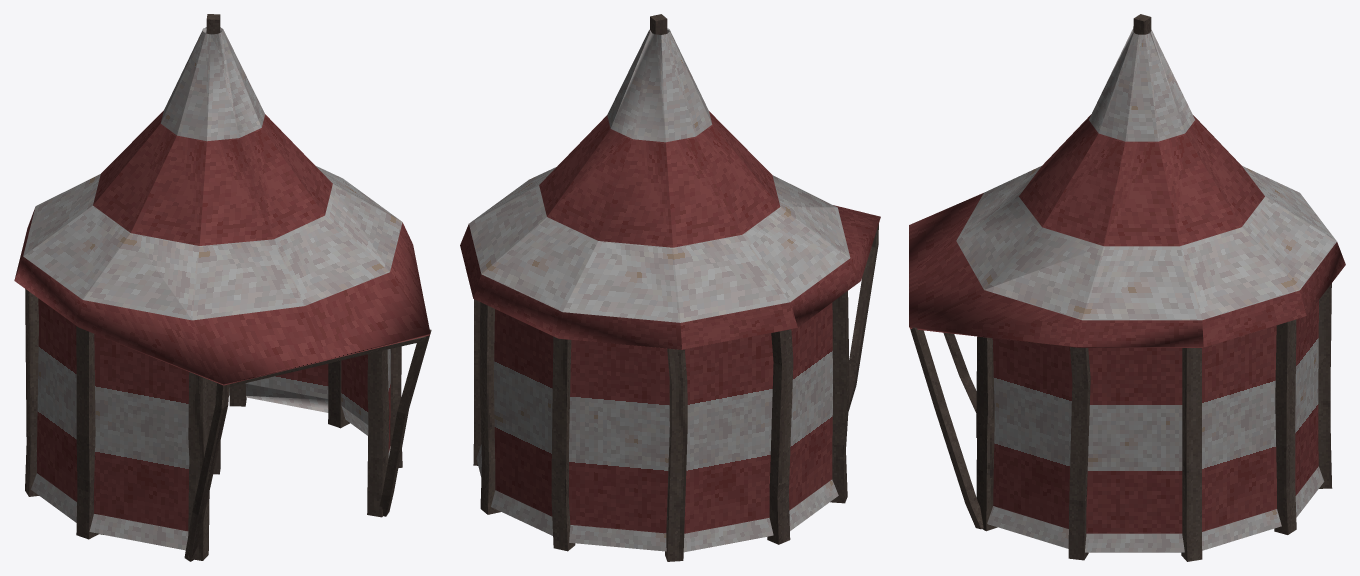
The model's file is market_stall_round_red.glb.
The picture shows the model from 3 angles, left to right: view 1: azimuth 30°, elevation 25°; view 2: azimuth 150°, elevation 25°; view 3: azimuth 270°, elevation 25°; orthographic projection.
Parts seen in each view (by area): view 1: market_stall_round_red; view 2: market_stall_round_red; view 3: market_stall_round_red.
Part boxes in pixels (<box>): market_stall_round_red: <box>14,14,431,561</box>; market_stall_round_red: <box>460,14,880,561</box>; market_stall_round_red: <box>909,14,1345,561</box>.
Bounding box in the file's own units: 4.67 × 6.17 × 5.21.
Materials: 2 (2 with a texture image).
